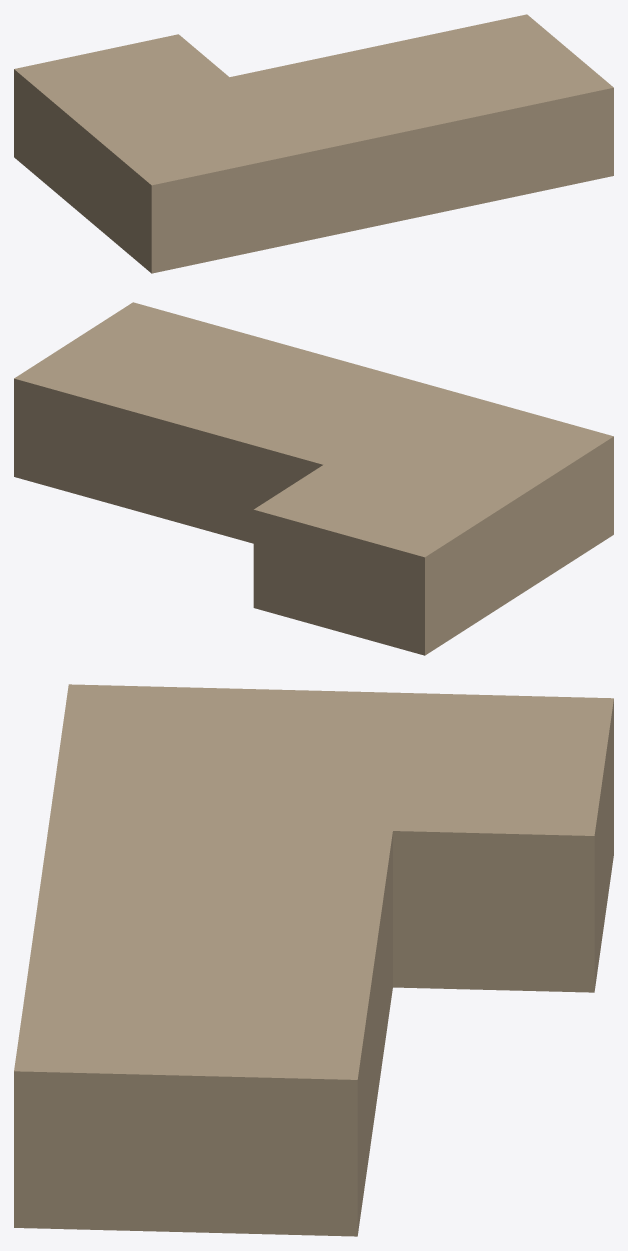
The model's file is bld_49071569.dae.
3 views of the same model, one above another, from view 1: azimuth 30°, elevation 25°; view 2: azimuth 150°, elevation 25°; view 3: azimuth 270°, elevation 25° (orthographic). The views are drawn at different scales.
Parts seen in each view (by area): view 1: Maldon Salt; view 2: Maldon Salt; view 3: Maldon Salt.
Boxes of the visible parts, <box> form: Maldon Salt: <box>14,14,613,273</box>; Maldon Salt: <box>14,302,613,655</box>; Maldon Salt: <box>14,684,613,1236</box>.
Size of the model in its own units: 43.34 by 27.78 by 8.
